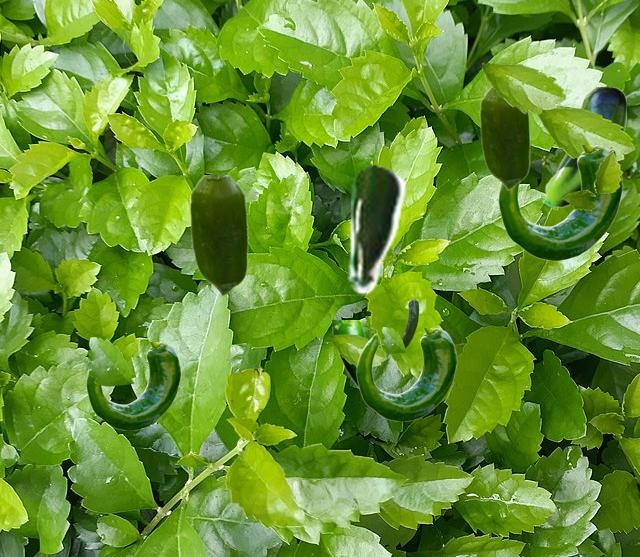green_chili: (498, 145, 622, 259), (541, 87, 625, 207), (356, 328, 456, 420), (86, 342, 180, 429), (344, 163, 406, 294), (189, 175, 247, 295), (479, 86, 529, 189), (332, 320, 367, 389), (402, 299, 418, 348)
